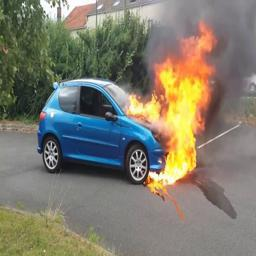fire: (130, 22, 217, 186)
